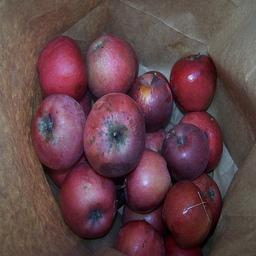apple: (82, 93, 146, 178), (57, 164, 116, 239), (30, 95, 86, 171), (84, 33, 138, 98), (164, 181, 215, 248), (36, 35, 88, 100), (122, 148, 170, 213), (167, 53, 216, 113), (163, 122, 210, 180), (130, 71, 172, 131), (114, 218, 164, 255)
